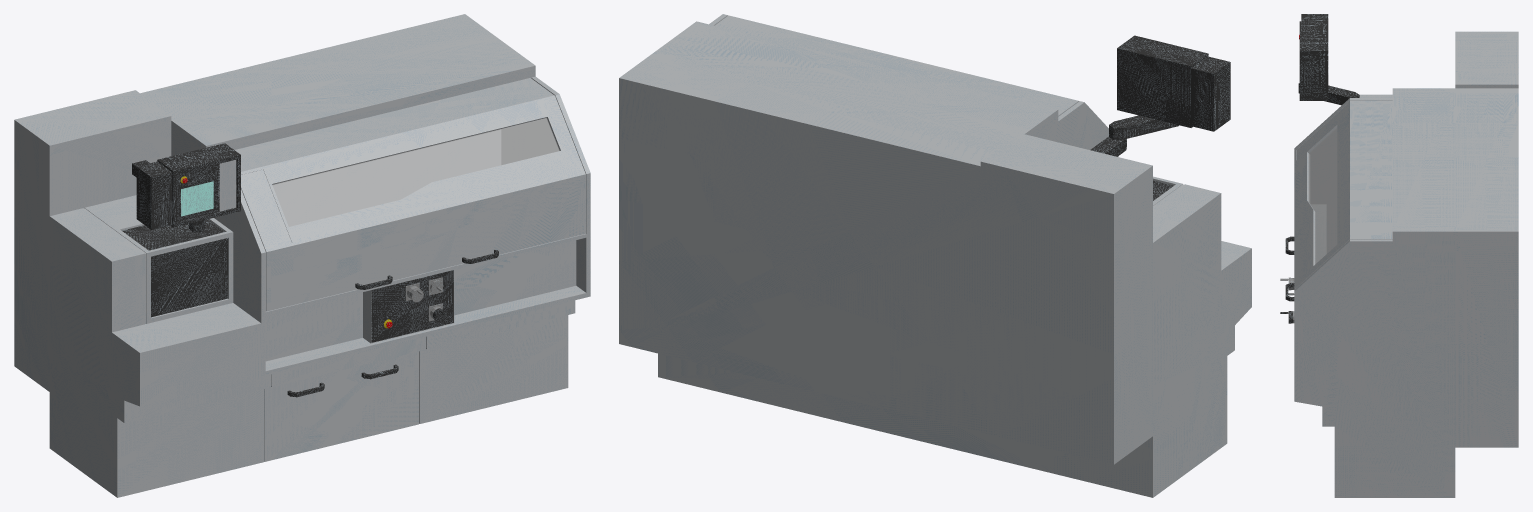
File: lathe.dae
3 views of the same model, side by side, from view 1: azimuth 30°, elevation 25°; view 2: azimuth 150°, elevation 25°; view 3: azimuth 270°, elevation 25° (orthographic). The views are drawn at different scales.
Visible parts, largest first — view 1: group_10 (×4), group_20 (×3), group_5, group_19, group_6 (×4), group_17, group_11; view 2: group_5, group_10, group_20, group_6, group_8; view 3: group_11, group_5, group_10 (×4), group_19, group_6, group_8.
Boxes of the visible parts, left/top/right/bottom form: group_10 (×4): left=49, top=40, right=588, bottom=497; group_20 (×3): left=49, top=195, right=261, bottom=406; group_5: left=14, top=14, right=499, bottom=391; group_19: left=272, top=118, right=559, bottom=226; group_6 (×4): left=136, top=143, right=240, bottom=229; group_17: left=371, top=270, right=453, bottom=342; group_11: left=499, top=40, right=590, bottom=388; group_5: left=619, top=49, right=1152, bottom=464; group_10: left=660, top=14, right=1234, bottom=497; group_20: left=1153, top=176, right=1251, bottom=384; group_6: left=1117, top=35, right=1230, bottom=131; group_8: left=1109, top=115, right=1179, bottom=139; group_11: left=1294, top=231, right=1455, bottom=497; group_5: left=1455, top=31, right=1518, bottom=447; group_10 (×4): left=1294, top=88, right=1455, bottom=290; group_19: left=1308, top=128, right=1337, bottom=263; group_6: left=1299, top=14, right=1328, bottom=100; group_8: left=1298, top=83, right=1359, bottom=105.
Size of the model in its own units: 102 by 52.52 by 72.05.
